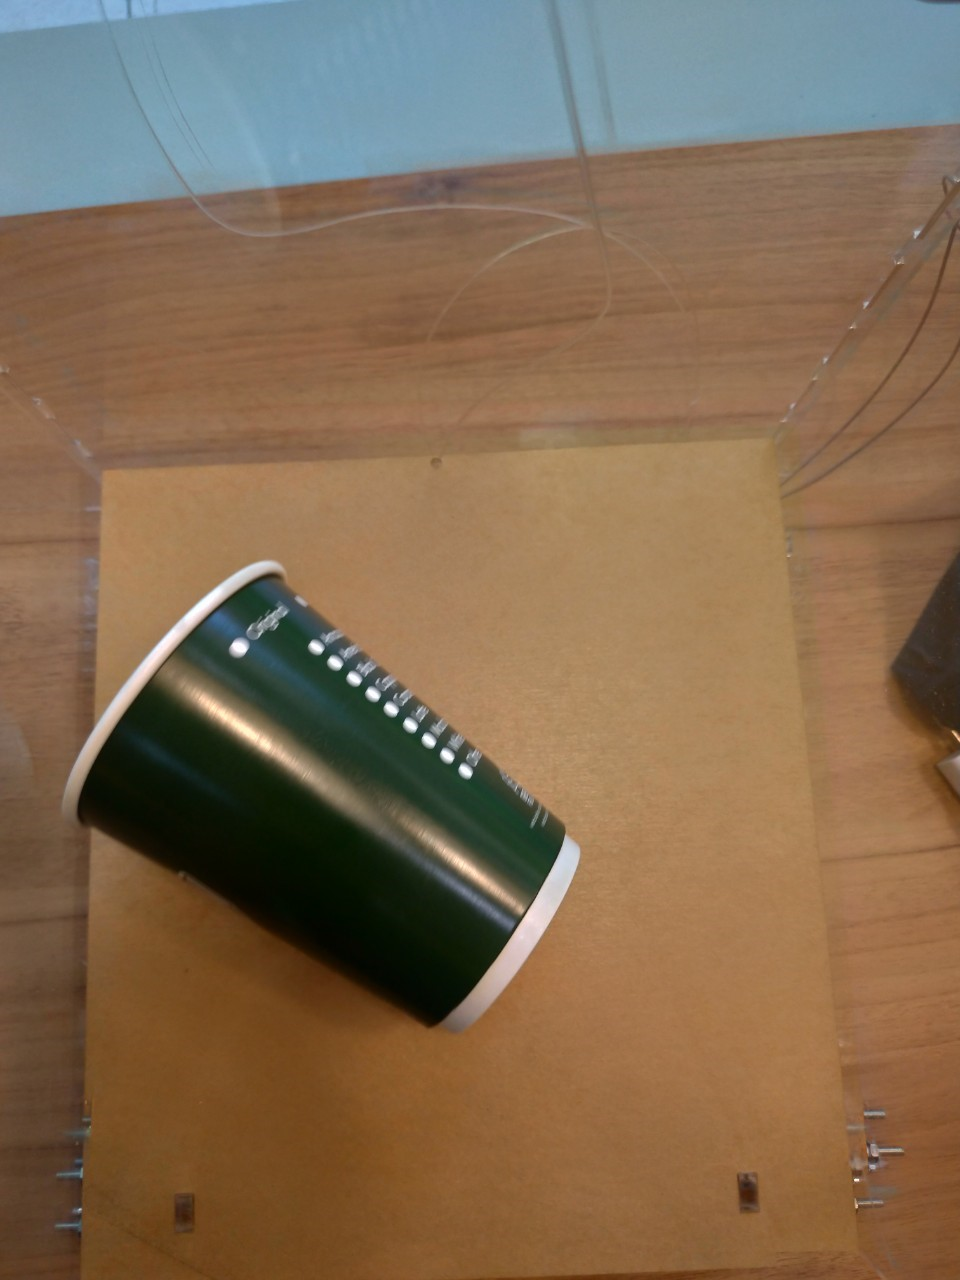PaperCup: (59, 561, 581, 1027)
